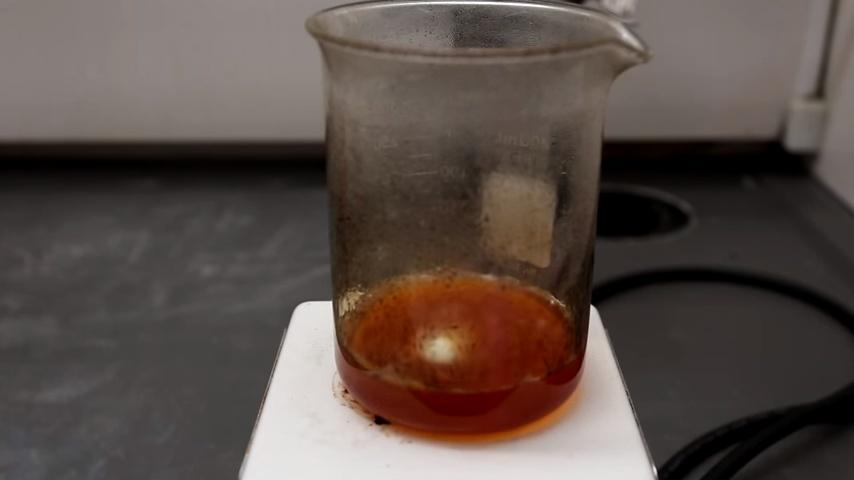Beaker: (290, 6, 656, 448)
